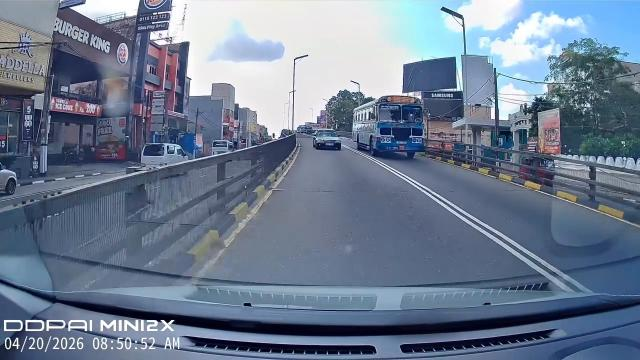illegal overtaking: (308, 127, 349, 155)
